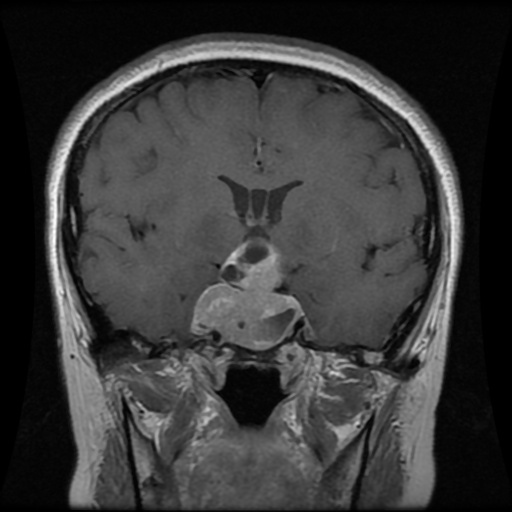pituitary: (192, 237, 305, 349)
